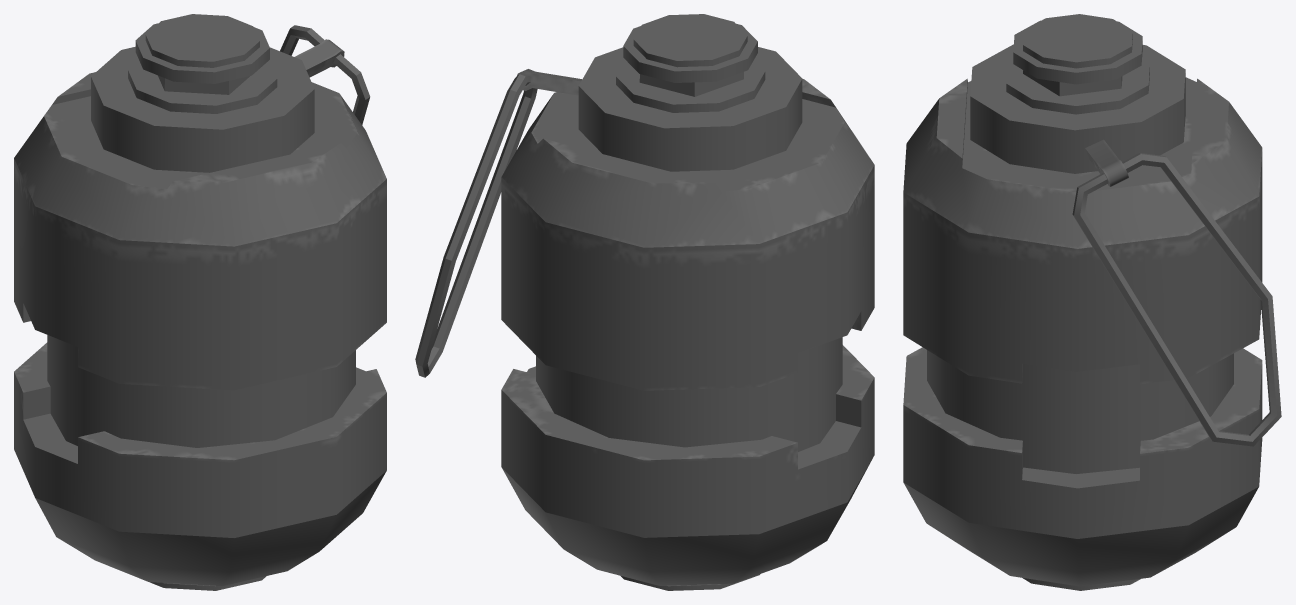
File: grenade.fbx
3 renders of one model, left to right at view 1: azimuth 30°, elevation 25°; view 2: azimuth 150°, elevation 25°; view 3: azimuth 270°, elevation 25°, orthographic.
Parts seen in each view (by area): view 1: Plane.006; view 2: Plane.006; view 3: Plane.006.
Boxes of the visible parts, x1=… form: Plane.006: x1=14, y1=14, x2=386, y2=590; Plane.006: x1=415, y1=14, x2=874, y2=590; Plane.006: x1=903, y1=14, x2=1281, y2=590.
Bounding box in the file's own units: 0.0813 × 0.1139 × 0.0755.
